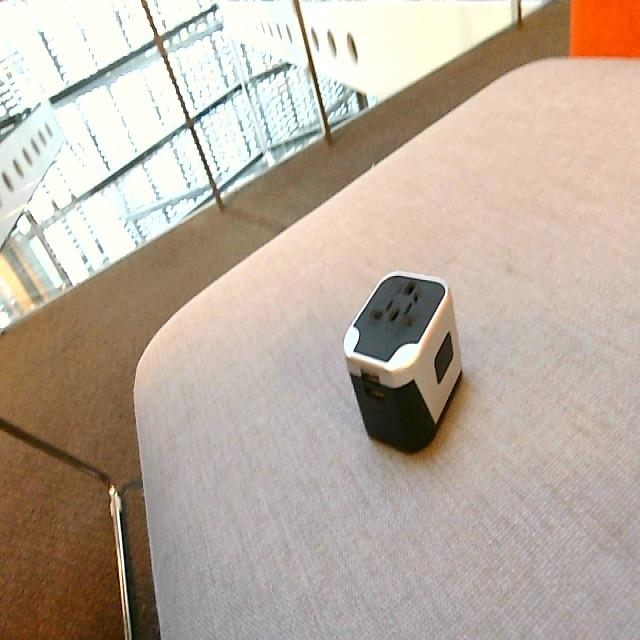adapter: (342, 268, 463, 453)
